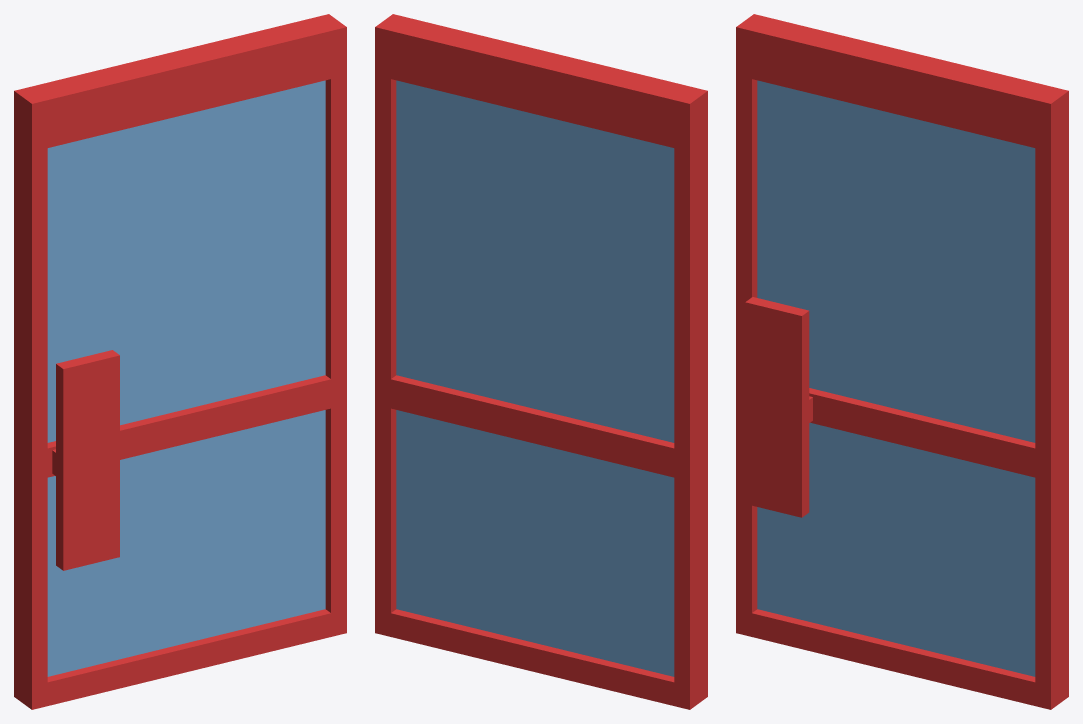
Rendered from Obj_Puerta_Secundaria.fbx.
3 renders of one model, left to right at view 1: azimuth 30°, elevation 25°; view 2: azimuth 150°, elevation 25°; view 3: azimuth 330°, elevation 25°, orthographic.
Parts seen in each view (by area): view 1: Puerta_Secundaria; view 2: Puerta_Secundaria; view 3: Puerta_Secundaria.
Boxes of the visible parts, left/top/right/bottom form: Puerta_Secundaria: left=14, top=14, right=346, bottom=709; Puerta_Secundaria: left=375, top=14, right=707, bottom=709; Puerta_Secundaria: left=736, top=14, right=1068, bottom=709.
Size of the model in its own units: 3.11 by 5.72 by 0.497.
